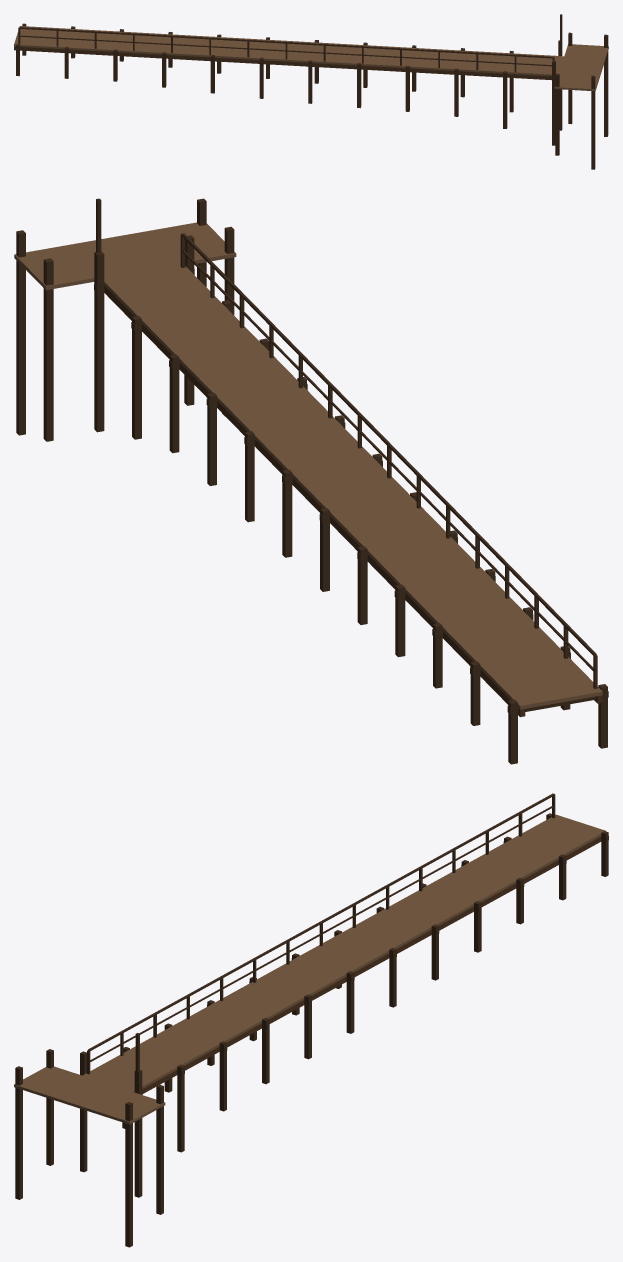
The model's file is SM_FishersCove_Pier.fbx.
3 renders of one model, top to bottom at view 1: azimuth 30°, elevation 25°; view 2: azimuth 150°, elevation 25°; view 3: azimuth 270°, elevation 25°, orthographic. The views are drawn at different scales.
Visible parts, largest first — view 1: SM_FishersCove_Pier; view 2: SM_FishersCove_Pier; view 3: SM_FishersCove_Pier.
Boxes of the visible parts, x1,y1,x2,y2 form: SM_FishersCove_Pier: [14, 14, 608, 169]; SM_FishersCove_Pier: [14, 198, 608, 764]; SM_FishersCove_Pier: [14, 793, 608, 1247].
Bounding box in the file's own units: 29.94 × 8.32 × 24.46.
